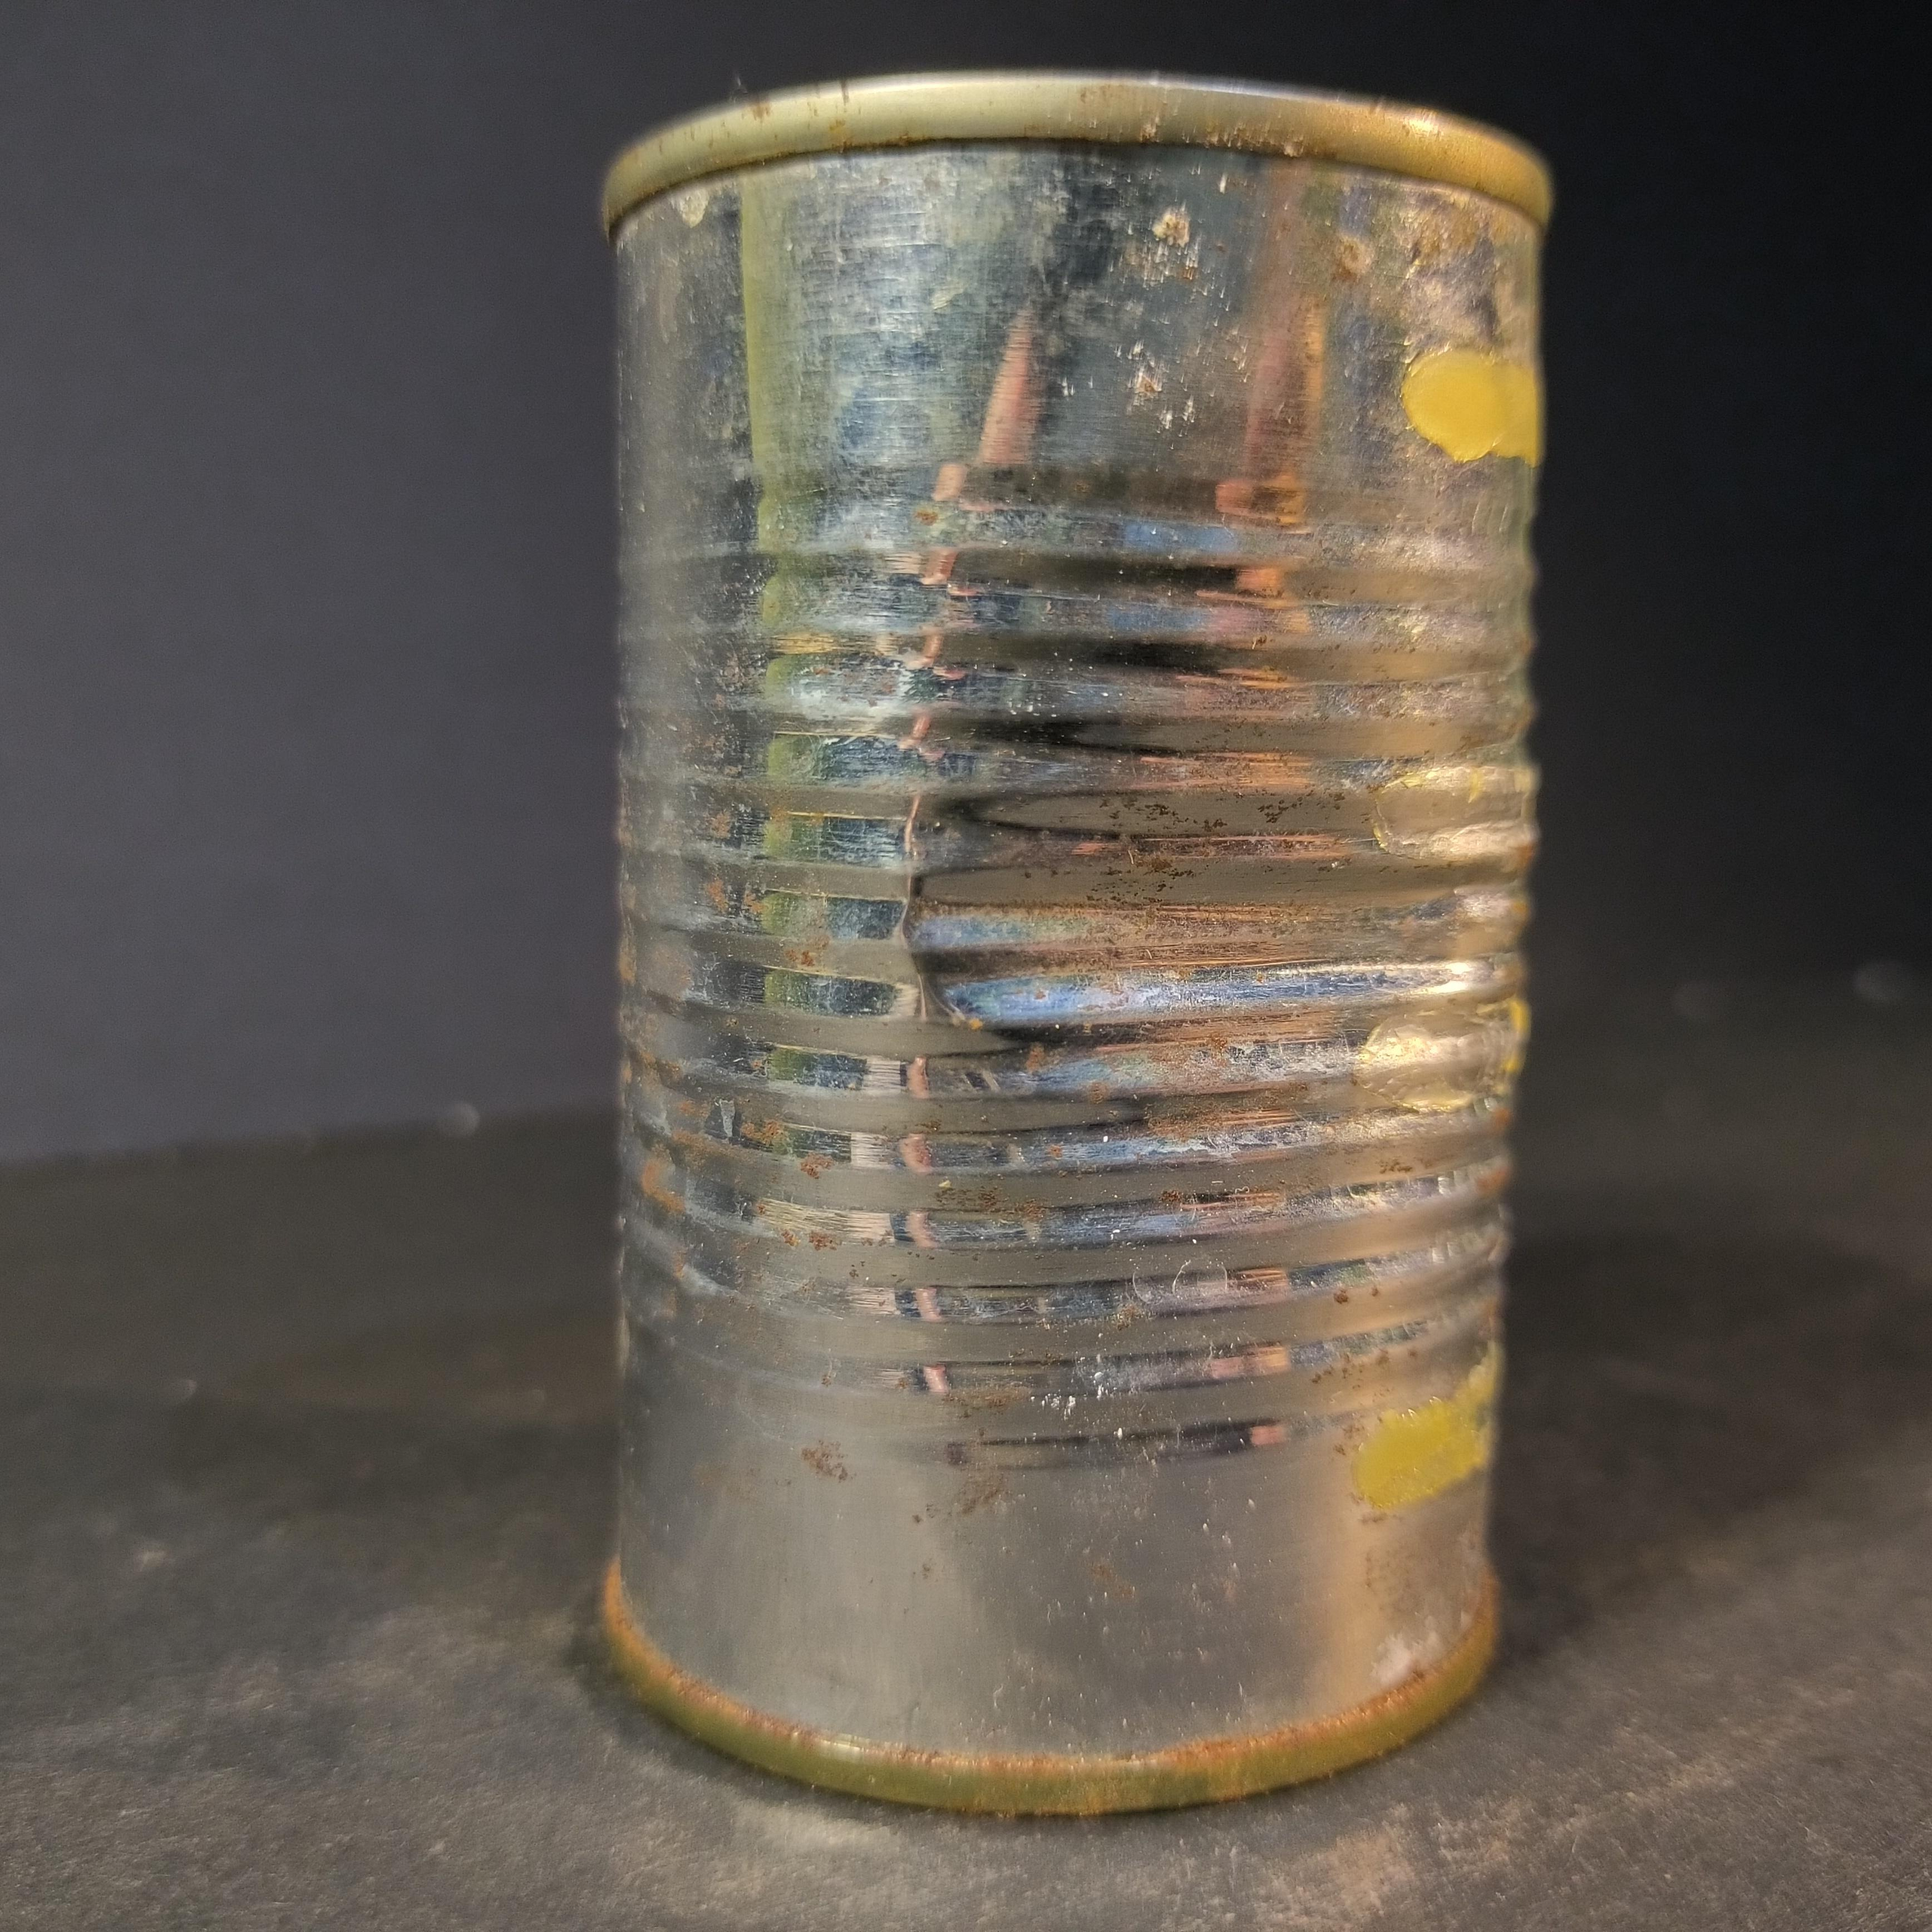Dented: (563, 58, 1541, 1813)
